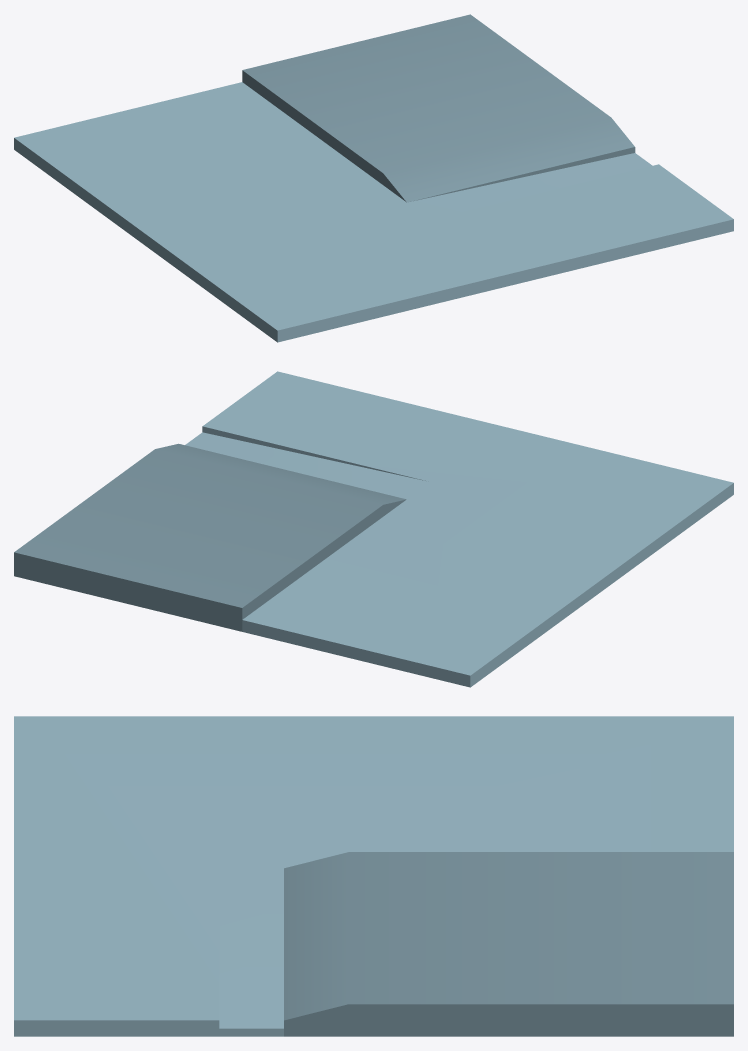
File: roadSlope.fbx
3 renders of one model, top to bottom at view 1: azimuth 30°, elevation 25°; view 2: azimuth 150°, elevation 25°; view 3: azimuth 270°, elevation 25°, orthographic. The views are drawn at different scales.
Visible parts, largest first — view 1: roadSlope; view 2: roadSlope; view 3: roadSlope.
Boxes of the visible parts, x1,y1,x2,y2 form: roadSlope: (14, 14, 733, 342); roadSlope: (14, 371, 733, 687); roadSlope: (14, 716, 733, 1036).
Size of the model in its own units: 10 by 0.5 by 10.
